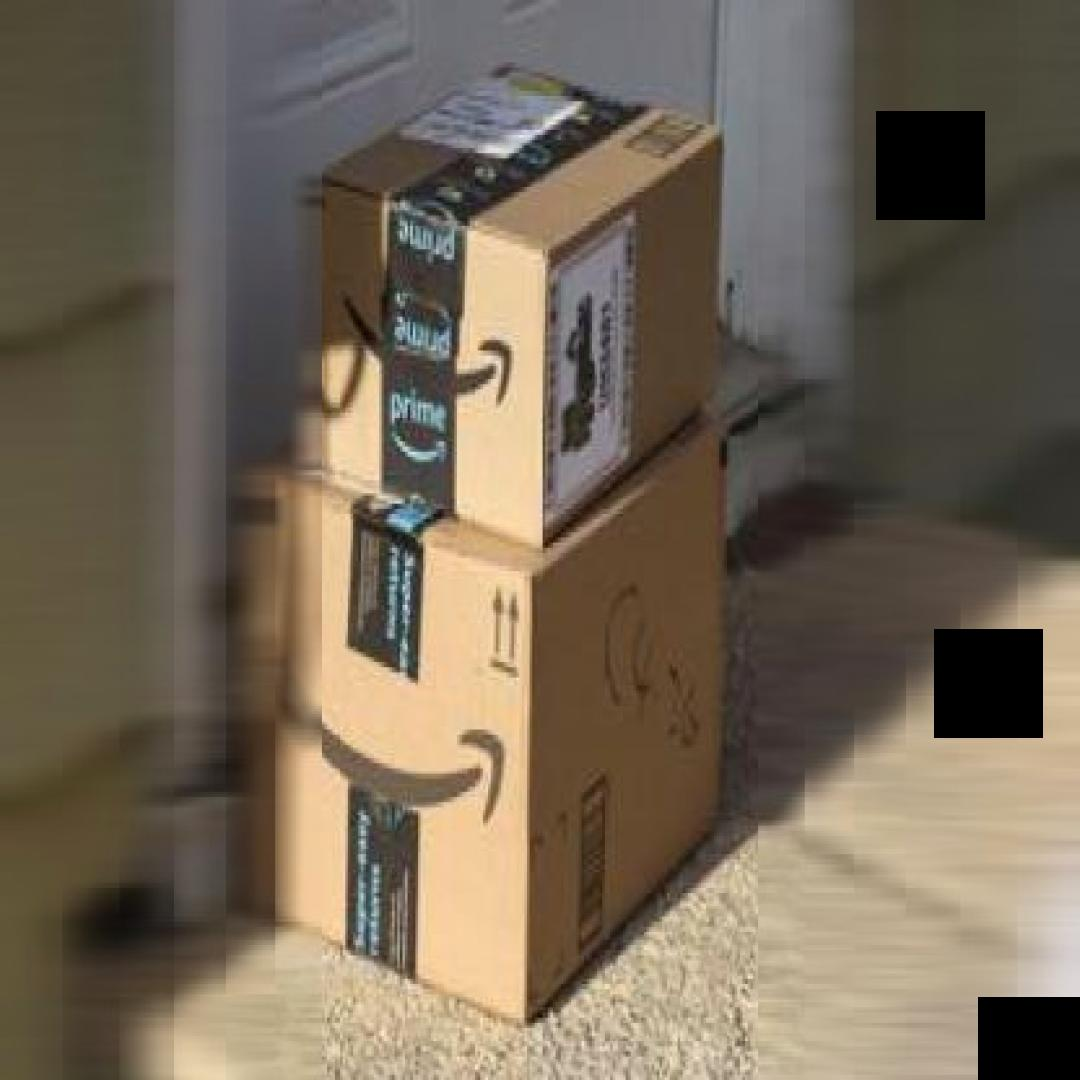package: (236, 415, 730, 1031), (307, 57, 726, 543)
